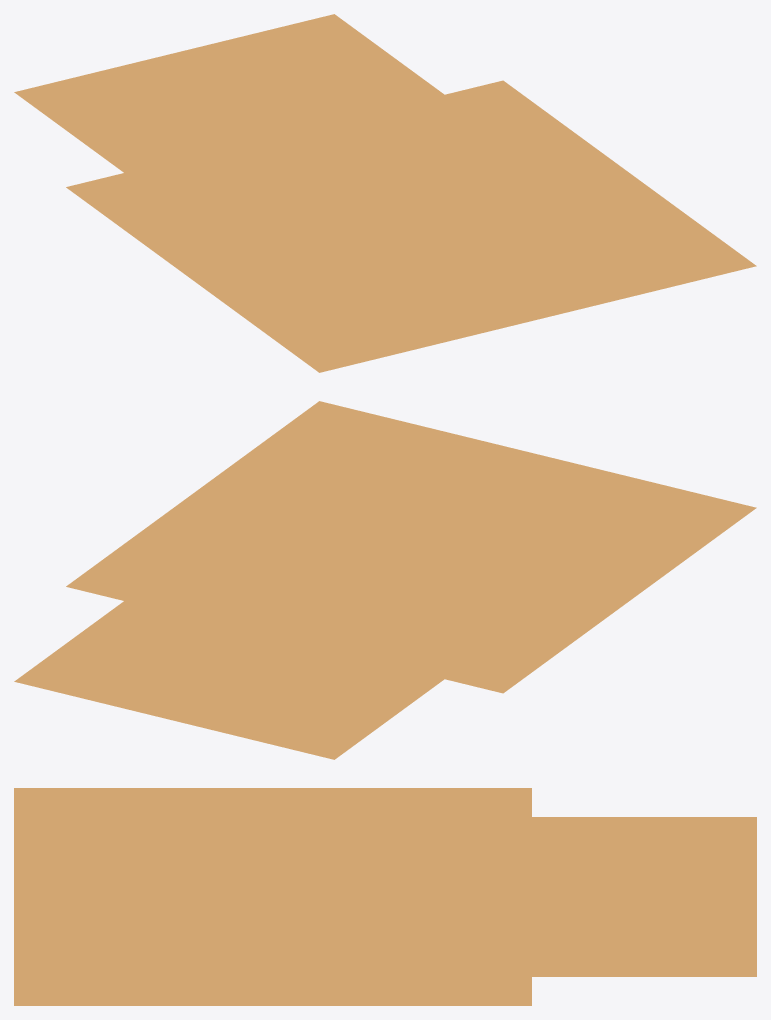
File: ground.fbx
The picture shows the model from 3 angles, top to bottom: view 1: azimuth 30°, elevation 25°; view 2: azimuth 150°, elevation 25°; view 3: azimuth 270°, elevation 25°; orthographic projection. The views are drawn at different scales.
Visible parts, largest first — view 1: ground_update; view 2: ground_update; view 3: ground_update.
Part boxes in pixels (bbox=[...]): ground_update: bbox=[14, 14, 756, 372]; ground_update: bbox=[14, 401, 756, 759]; ground_update: bbox=[14, 788, 756, 1005].
Bounding box in the file's own units: 3.06 × 7.65e-15 × 4.41.
